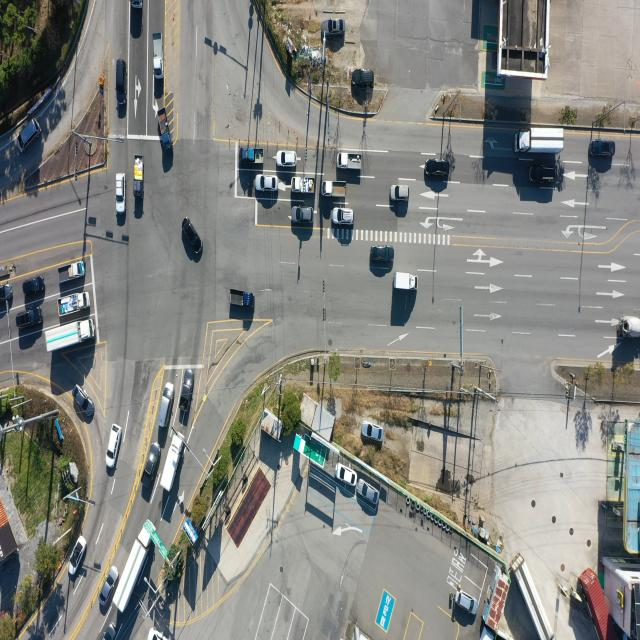car: (182, 217, 204, 254), (99, 565, 118, 607), (74, 384, 96, 420), (68, 534, 87, 575), (158, 382, 174, 428), (108, 423, 124, 467), (455, 586, 477, 617), (530, 166, 560, 186), (179, 370, 194, 410), (426, 159, 453, 180), (321, 17, 345, 40), (357, 481, 379, 506), (144, 442, 159, 478), (336, 462, 358, 486), (17, 309, 43, 329), (590, 140, 616, 158), (23, 276, 46, 296), (116, 59, 126, 103), (371, 245, 395, 262), (364, 422, 384, 442), (352, 68, 374, 86), (334, 208, 355, 226), (115, 174, 124, 215), (257, 176, 279, 192), (277, 150, 297, 166), (100, 622, 117, 640), (292, 208, 312, 223), (389, 185, 408, 200), (0, 284, 13, 302), (147, 626, 163, 640)
medium_truck: (116, 519, 157, 614), (518, 555, 557, 638), (46, 318, 96, 356), (158, 433, 184, 495), (516, 129, 566, 156), (621, 318, 640, 342), (128, 0, 142, 10)
small_truck: (16, 120, 40, 154), (56, 292, 90, 316), (156, 105, 172, 152), (58, 261, 86, 283), (338, 151, 364, 170), (321, 180, 347, 198), (395, 272, 418, 292), (152, 32, 162, 78), (230, 288, 253, 307), (291, 176, 315, 193), (134, 153, 144, 193), (239, 147, 263, 163)
